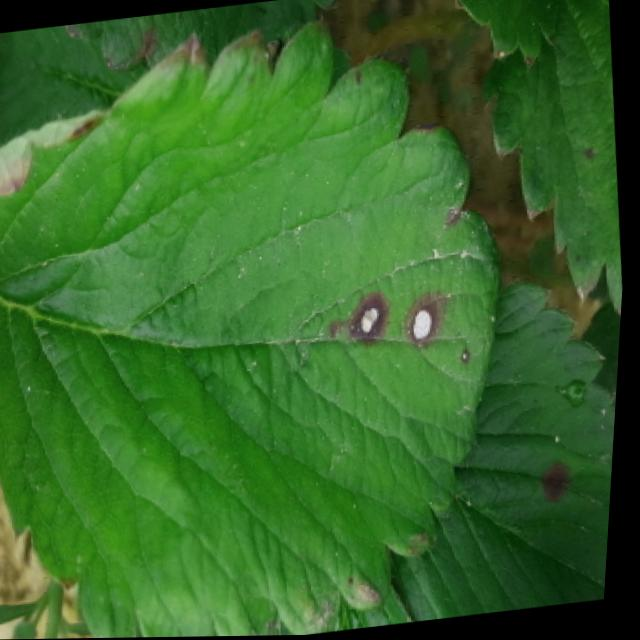Leaf Spot: (0, 11, 505, 639), (398, 281, 621, 622), (476, 0, 626, 321), (56, 0, 338, 70), (0, 110, 109, 250)
